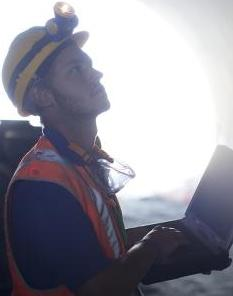hard-hat: (0, 1, 83, 114)
vest: (2, 130, 145, 296)
